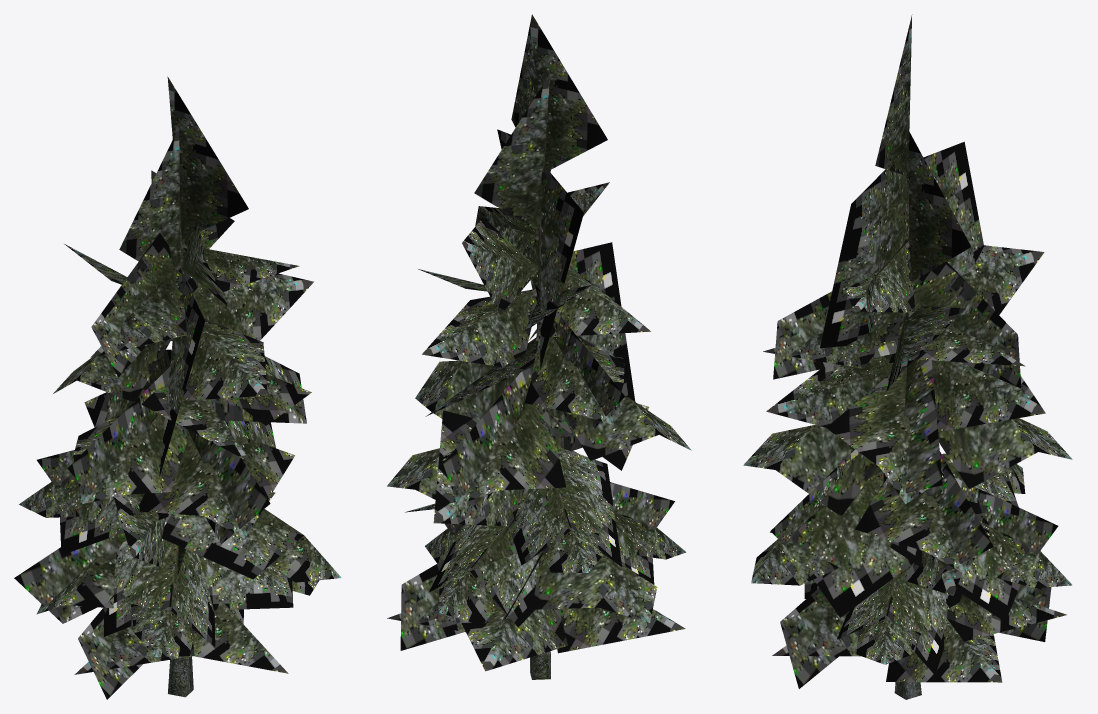
Rendered from treepineforestsnowl03-transformed.glb.
The picture shows the model from 3 angles, left to right: view 1: azimuth 30°, elevation 25°; view 2: azimuth 150°, elevation 25°; view 3: azimuth 270°, elevation 25°; orthographic projection. The views are drawn at different scales.
Visible parts, largest first — view 1: default; view 2: default; view 3: default.
Part boxes in pixels (x1,y1,x2,y2): default: (14, 76, 341, 699); default: (387, 14, 691, 679); default: (743, 14, 1072, 699).
Size of the model in its own units: 3.96 by 9.24 by 4.31.
Materials: 2 (2 with a texture image).
